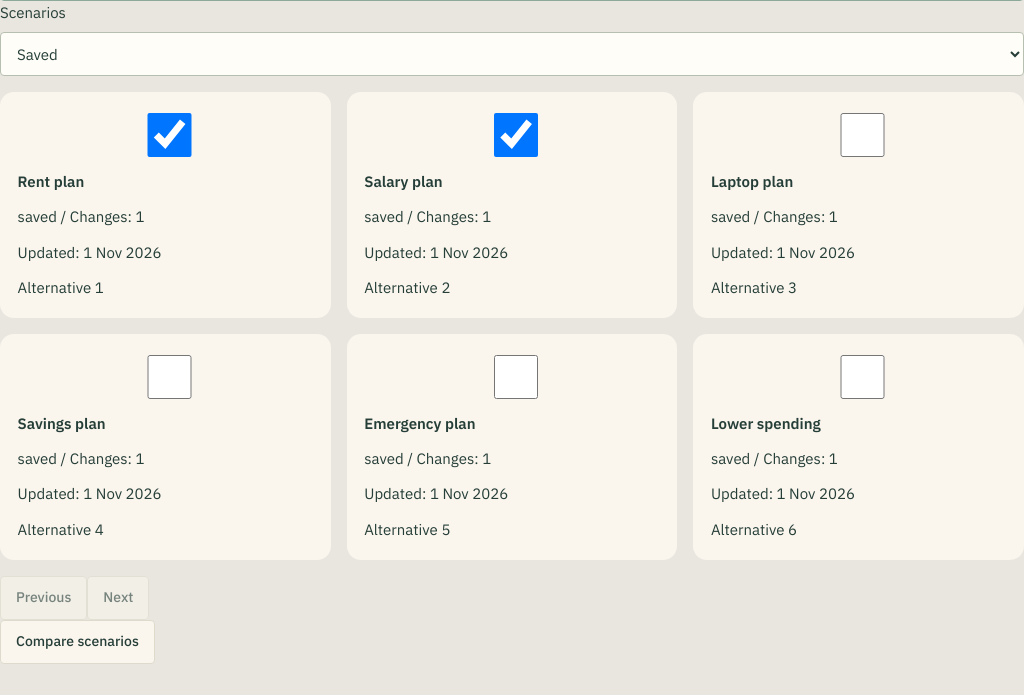
Test: reports incompatible versions without displaying stale money
(page scrolled)
Click the button "Compare scenarios": x=77, y=642 left=0, top=620, right=155, bottom=664
(page scrolled)
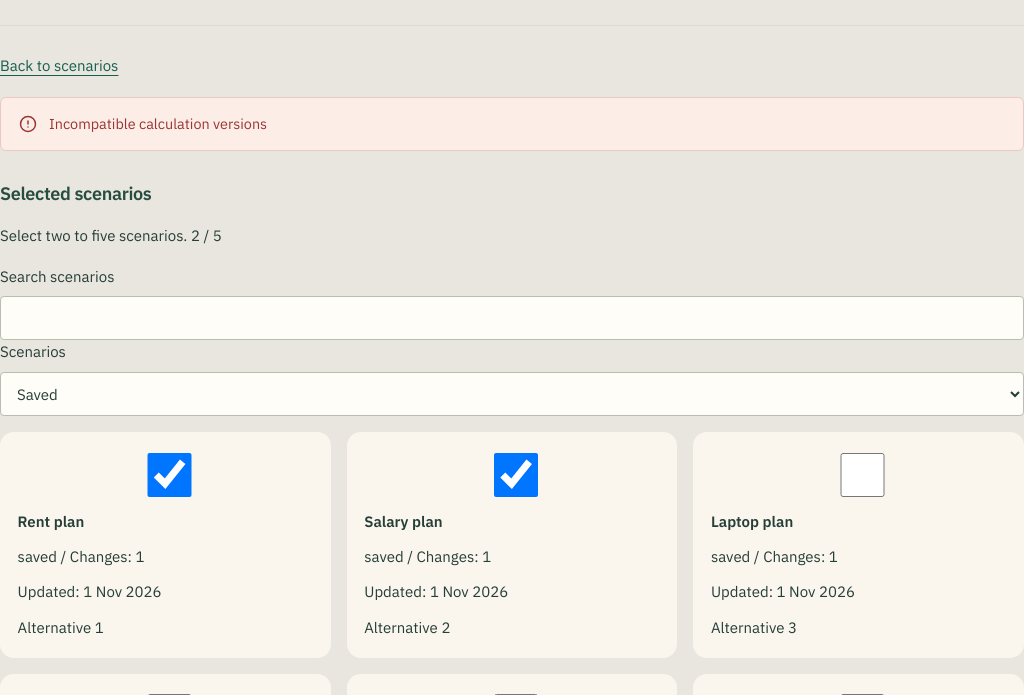
Expected: the message "Incompatible calculation versions" is shown, left=0, top=97, right=1023, bottom=151
